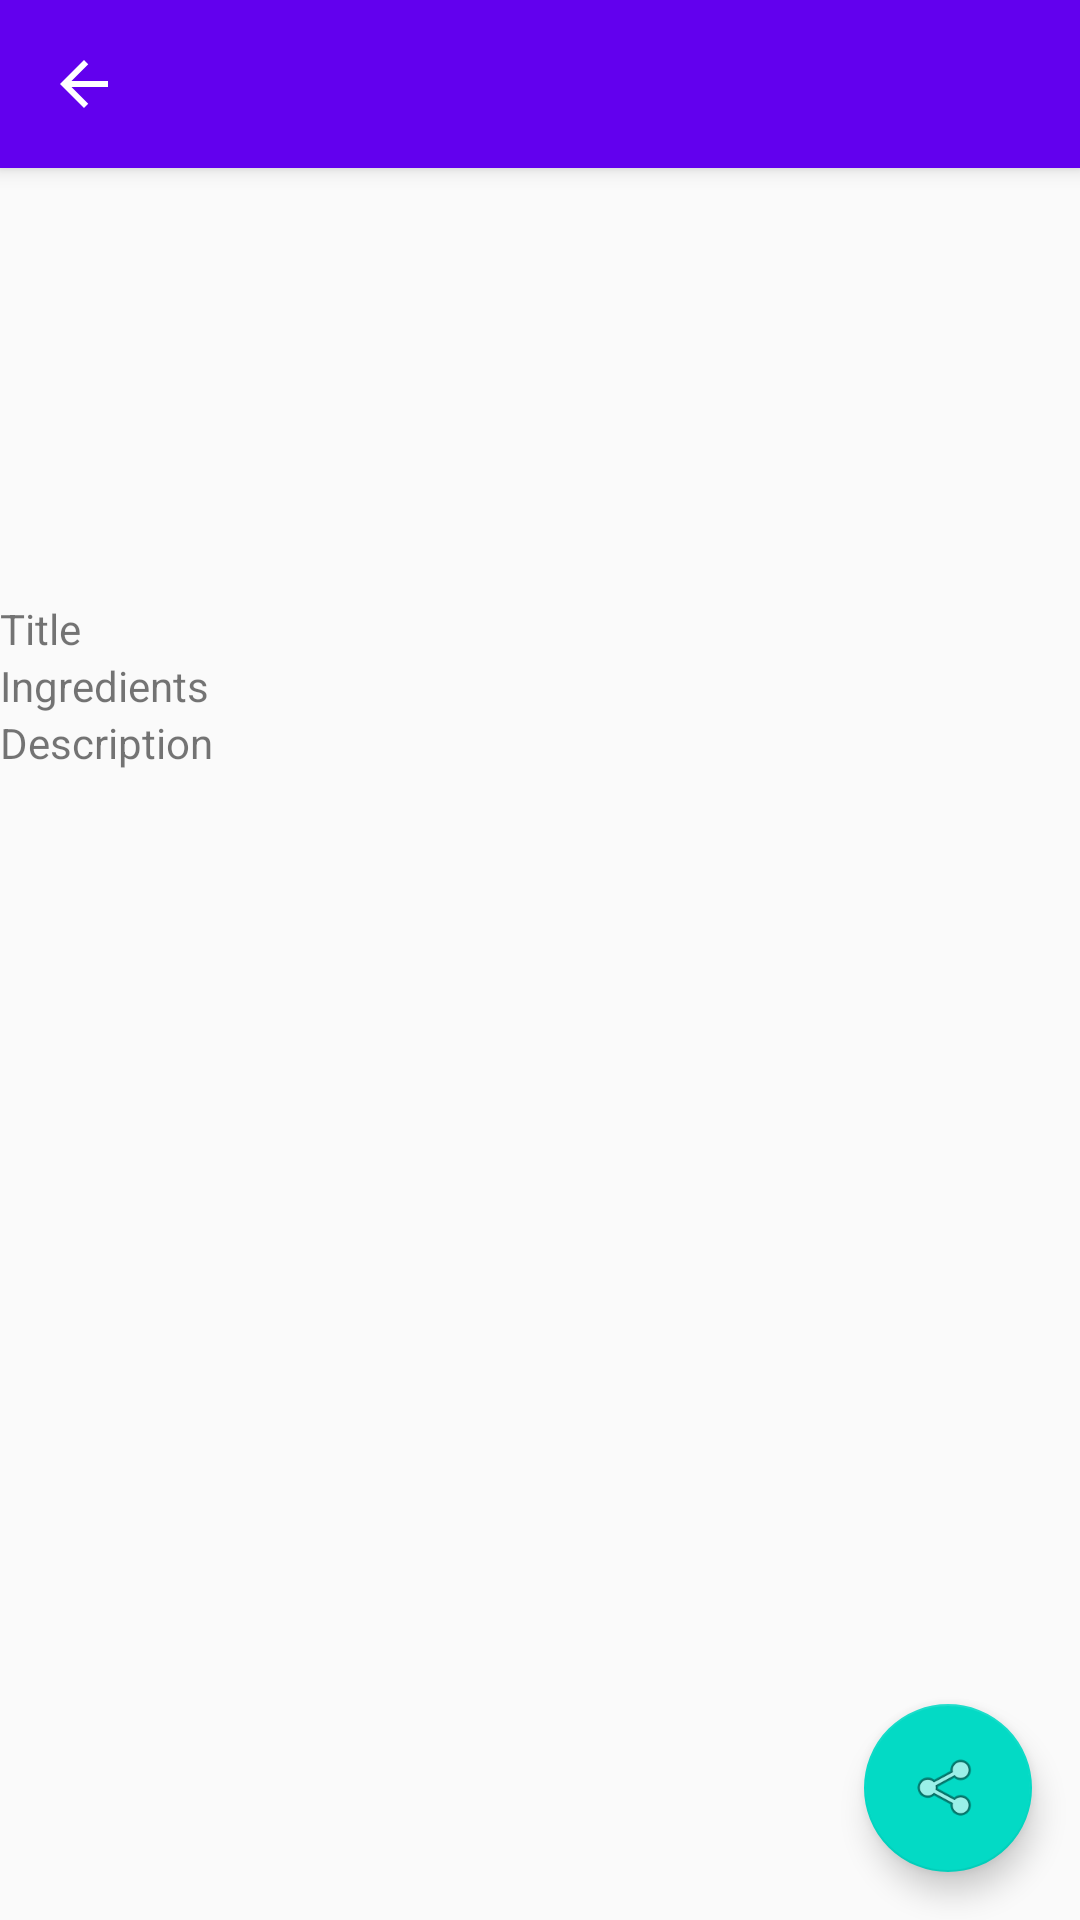

Where to tap for icons on this 1080px×1920px app screen, as (x,y):
share: (948,1788)
